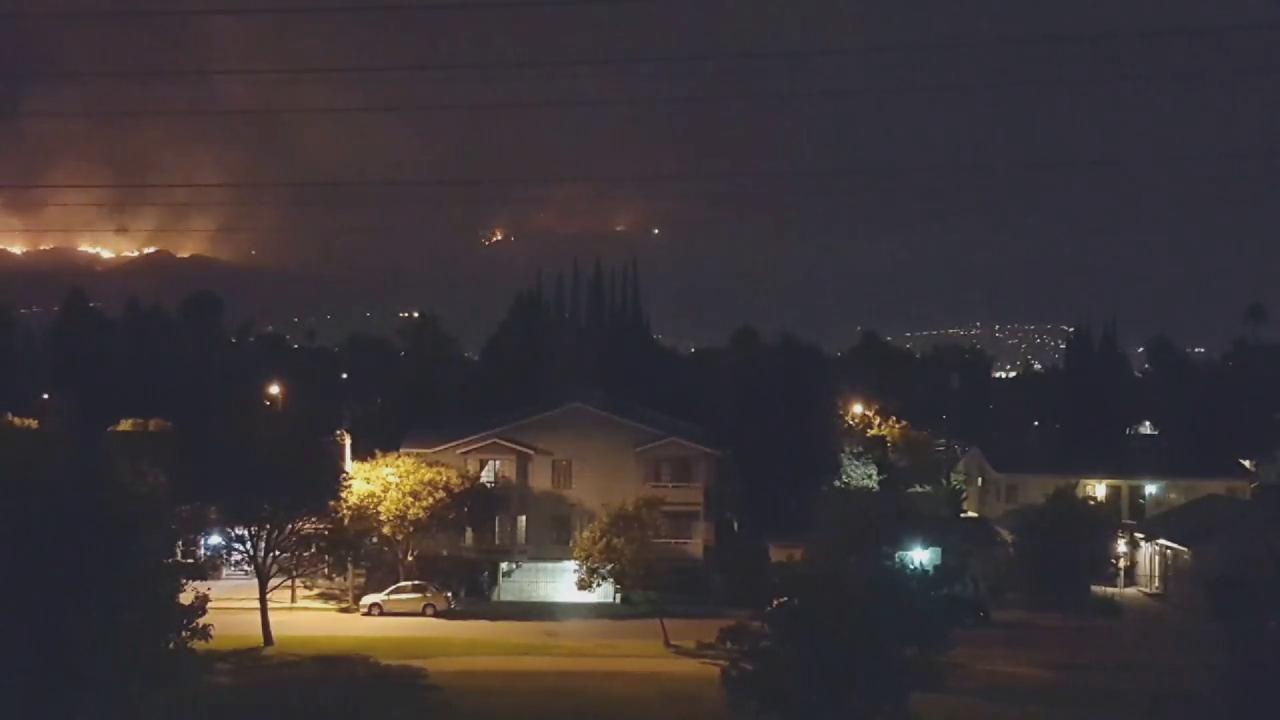fire: (5, 20, 370, 269), (493, 175, 660, 233), (75, 243, 158, 259), (6, 239, 54, 258), (480, 227, 504, 246)
